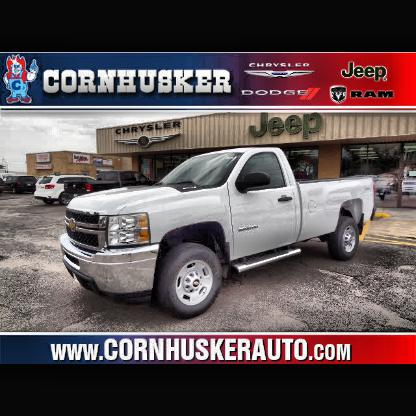Chevrolet Silverado 2500HD Regular Cab 2012: (60, 146, 379, 319)
